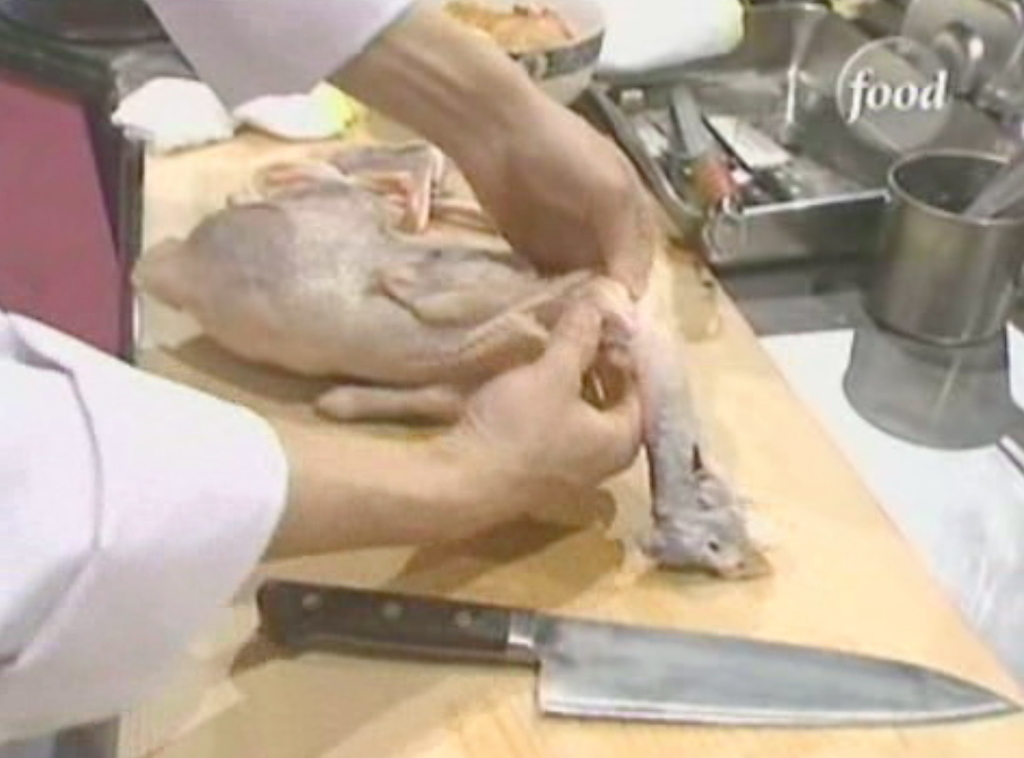kitchen knife: (248, 576, 1022, 718)
